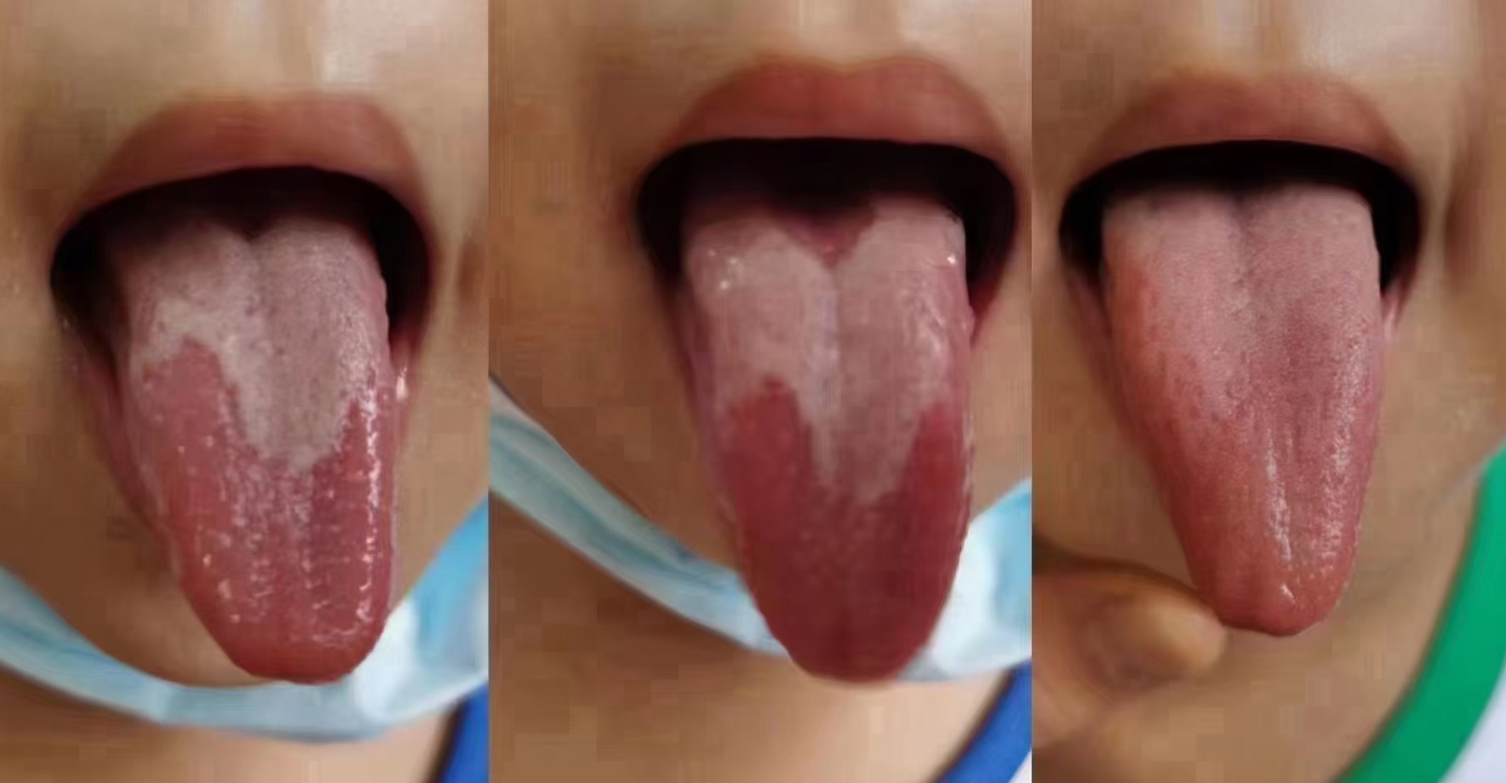baitaishe: (667, 193, 973, 682), (119, 217, 398, 687), (1103, 184, 1385, 637)
botaishe: (705, 346, 965, 557), (140, 326, 387, 530), (762, 200, 894, 282)
hongshe: (669, 195, 975, 683), (118, 216, 397, 686)
